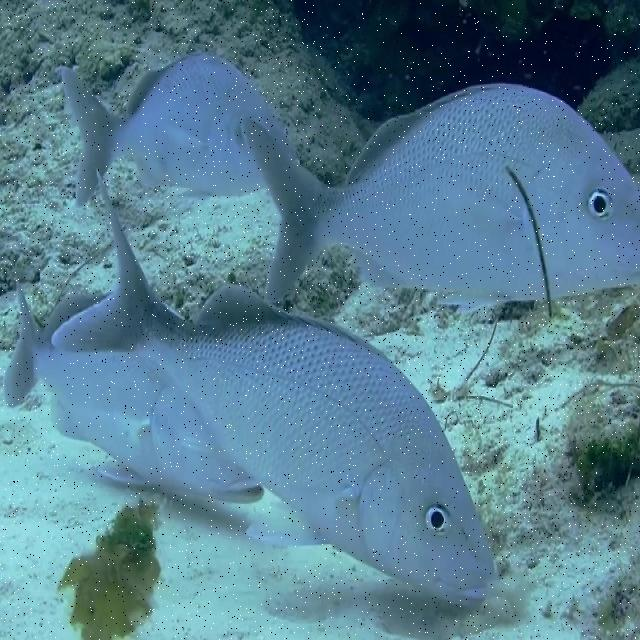aquatic plants: (59, 504, 161, 639)
fish: (51, 168, 493, 606), (240, 83, 639, 313), (6, 278, 265, 506), (62, 55, 292, 208)
